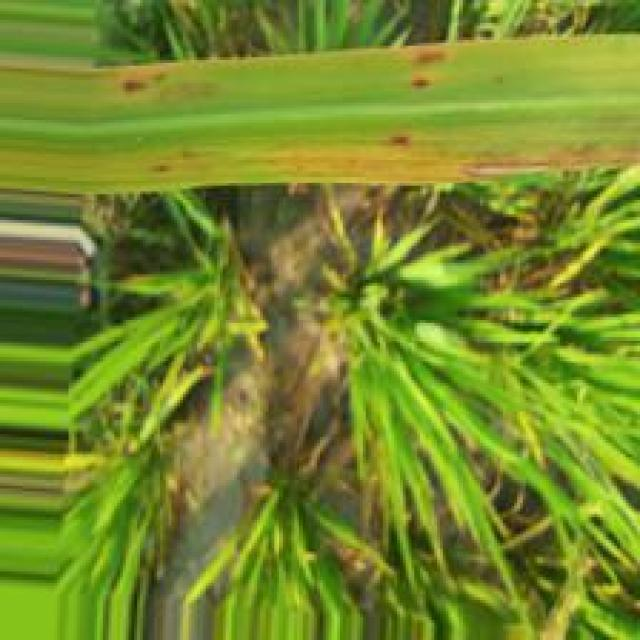Brown_Spot: (456, 156, 596, 178), (409, 46, 450, 69), (113, 77, 153, 97), (382, 130, 410, 149), (405, 73, 433, 89)
